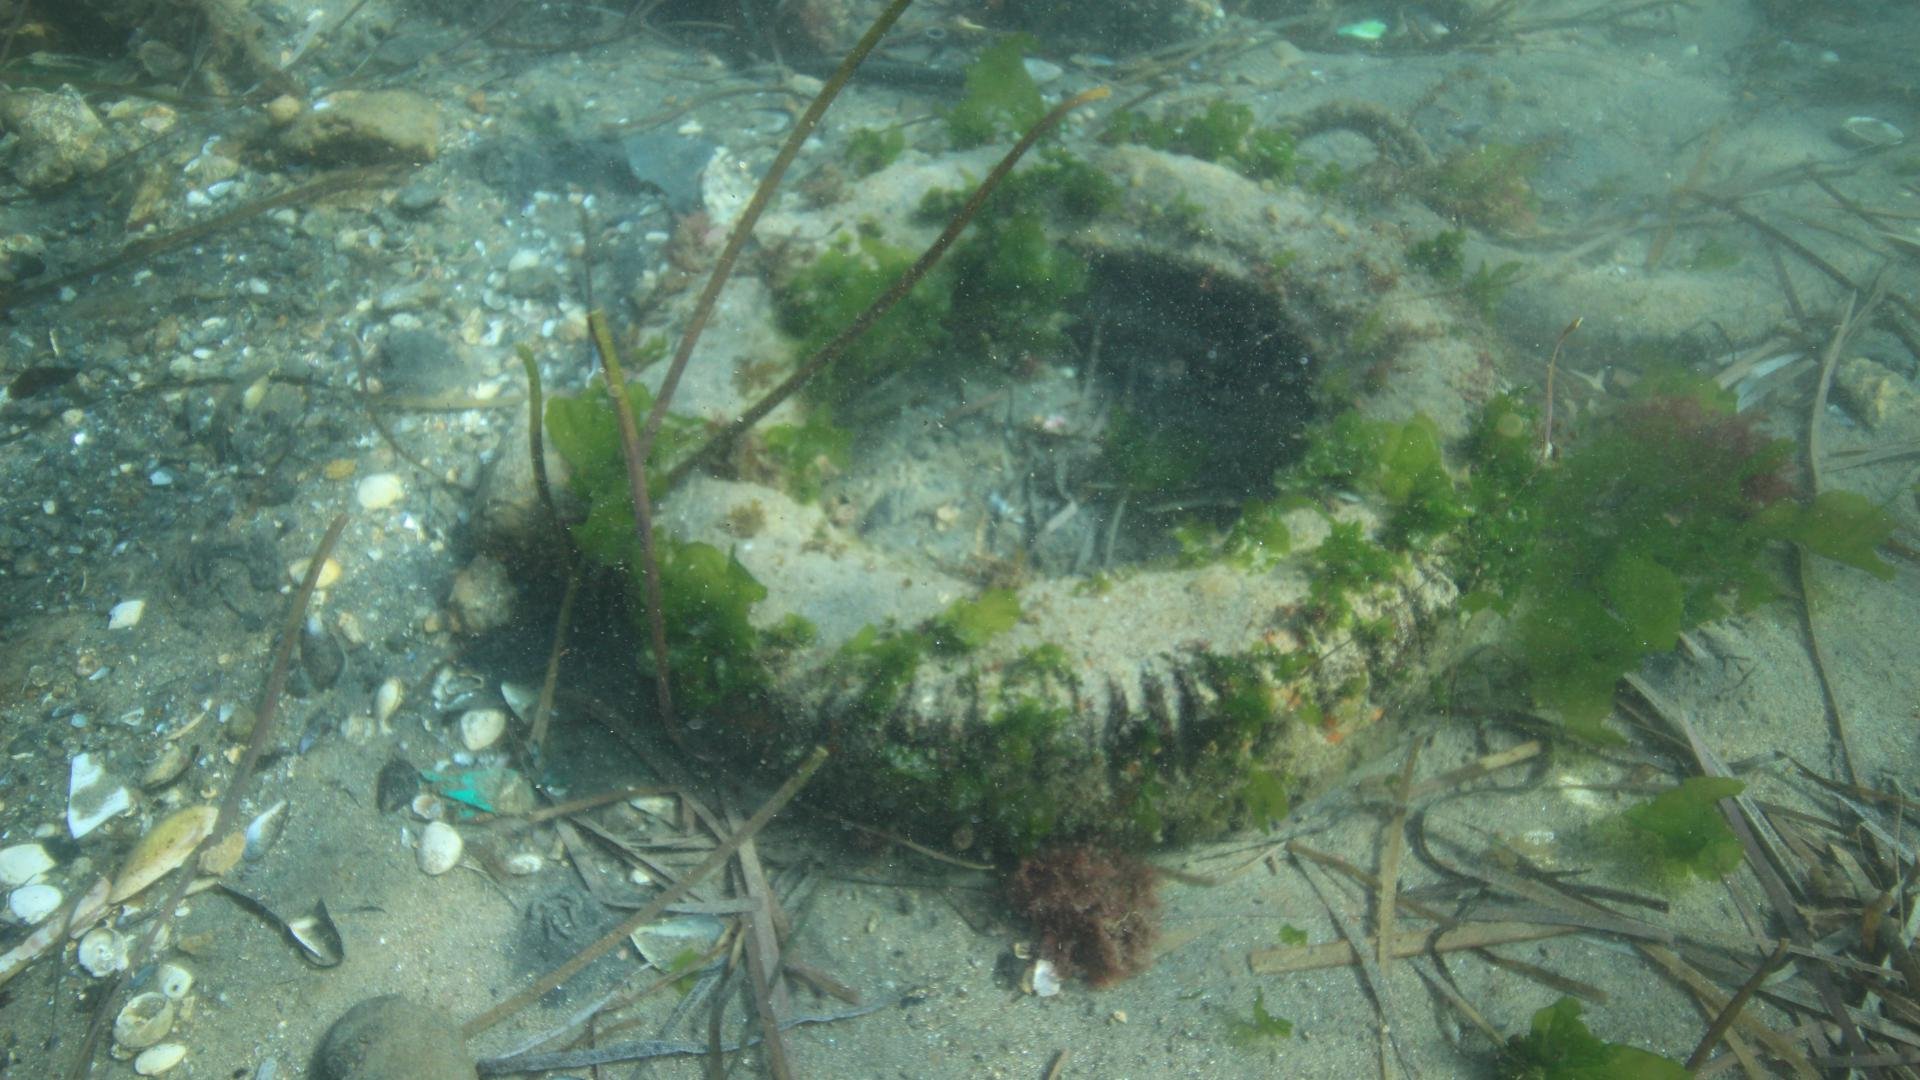tire: (618, 137, 1499, 862)
